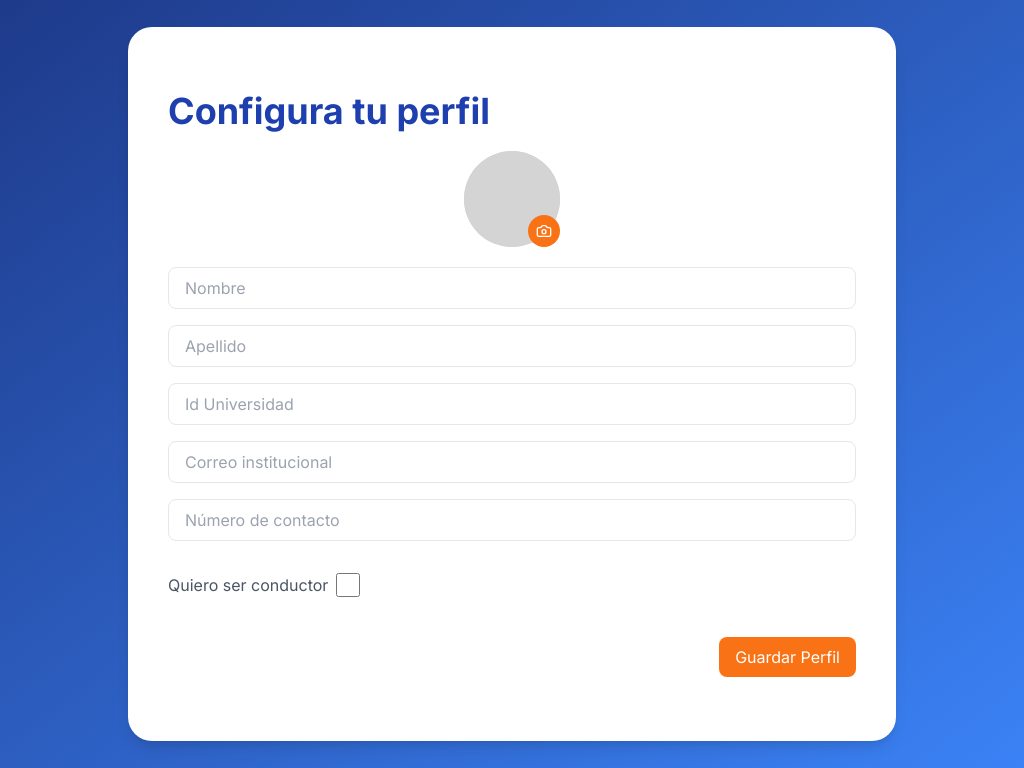
Test: ProfileSetup › muestra errores si se envía con campos vacíos
The image size is (1024, 768).
Step 1. Click the button "Guardar Perfil" → (788, 657), box [719,637,856,677]
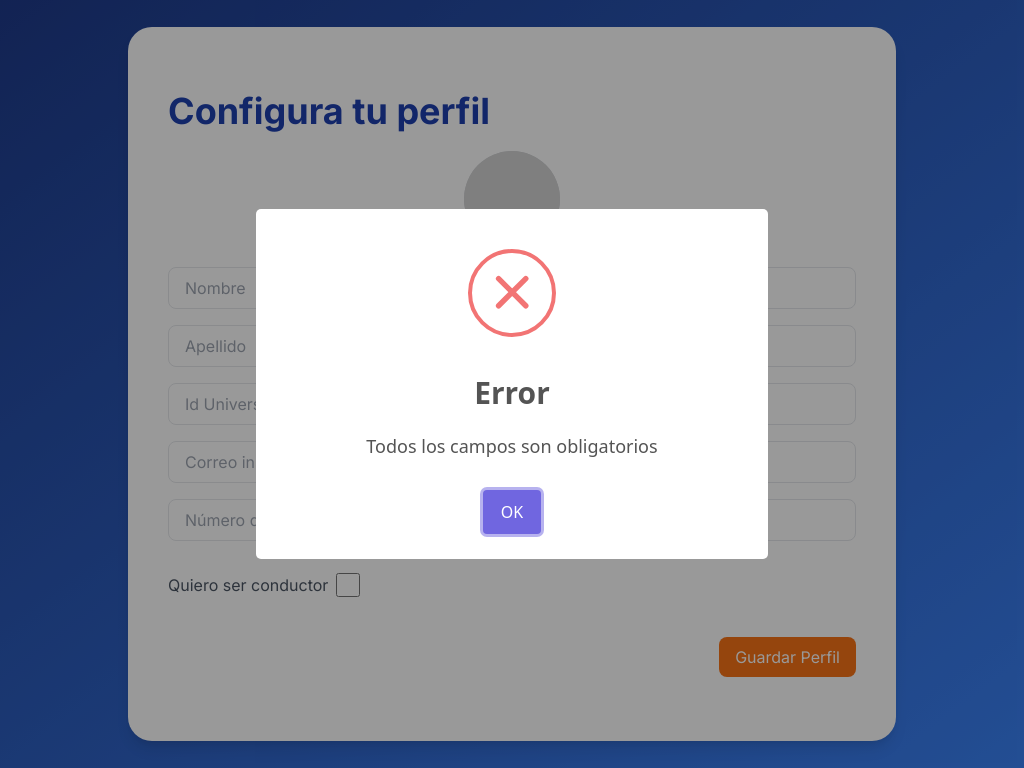
Check: the text "Todos los campos son obligatorios" is shown, box [366,434,658,458]
